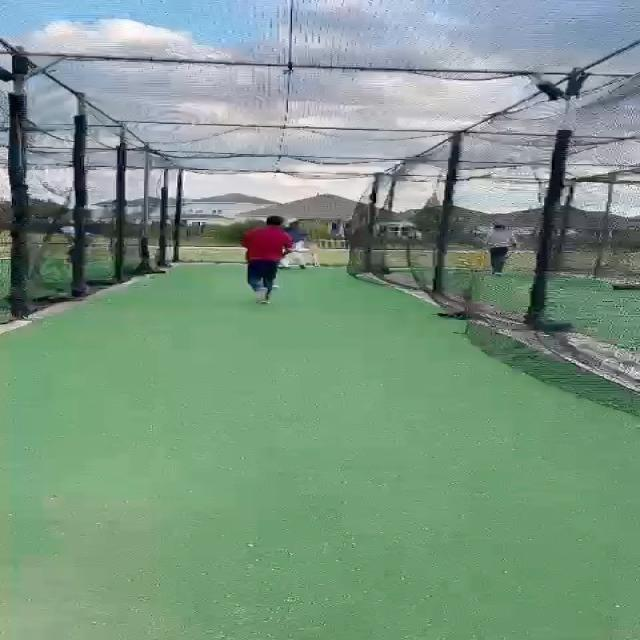batsman: (278, 225, 321, 270)
